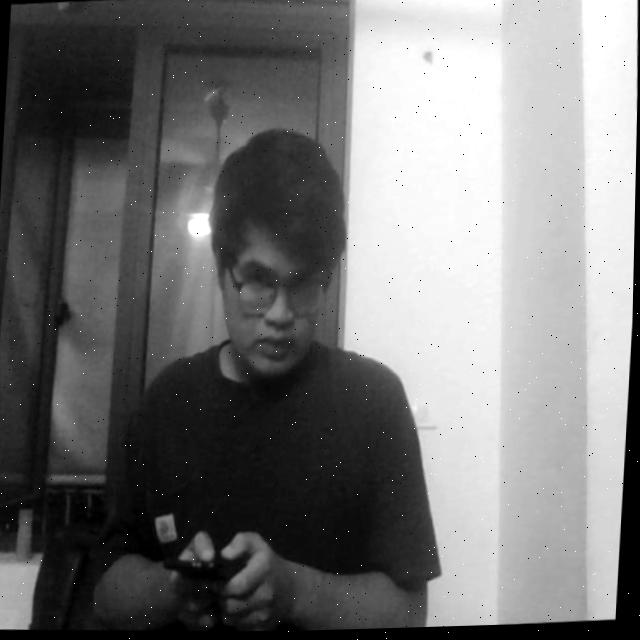phone: (161, 523, 264, 622)
